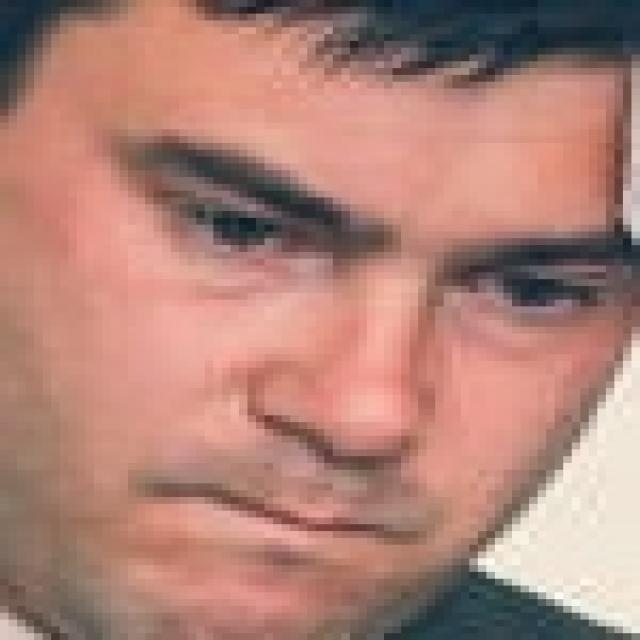Anxiety: (0, 0, 631, 633)
